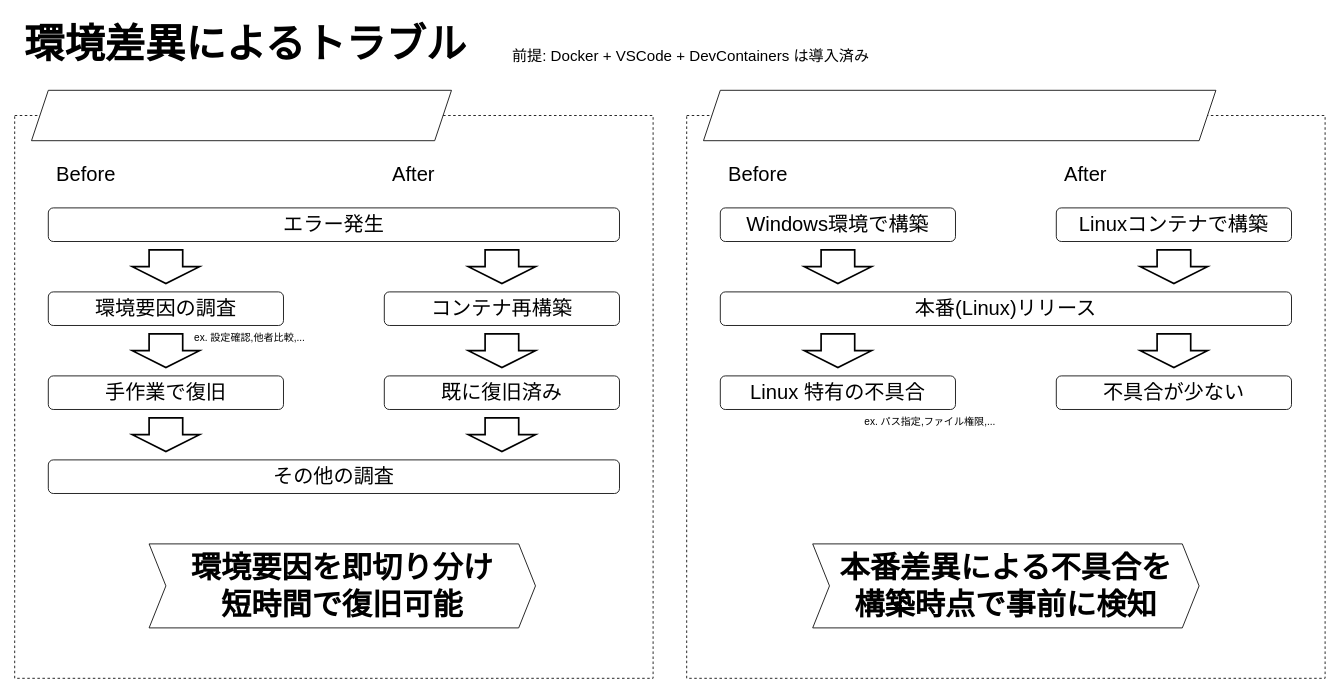
Image size: 1340x693. Some labels were removed from this diagram. The centre of each missing label's shape, as x and y in pixels:
When: エラー発生から復旧: the point at 241,115
When: 本番差異による不具合検知: the point at 959,115
